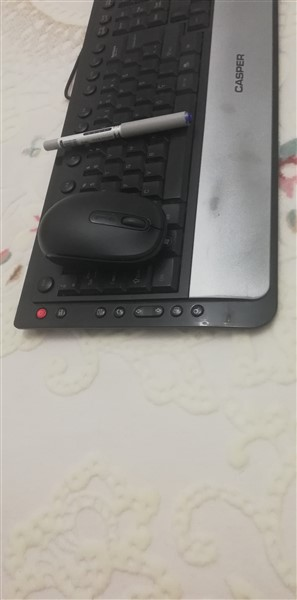klavye: (14, 1, 283, 332)
mouse: (28, 186, 172, 272)
pilot kalem: (42, 109, 195, 145)
